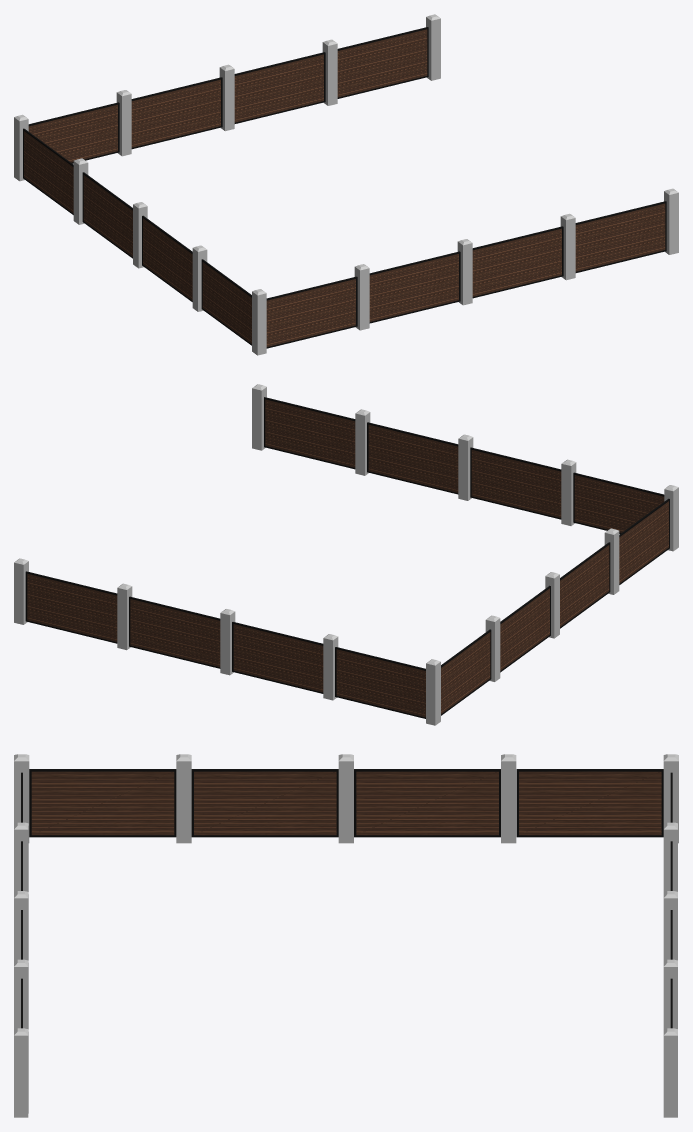
The model's file is Exterior.FBX.
The picture shows the model from 3 angles, top to bottom: view 1: azimuth 30°, elevation 25°; view 2: azimuth 150°, elevation 25°; view 3: azimuth 270°, elevation 25°; orthographic projection. The views are drawn at different scales.
Parts seen in each view (by area): view 1: Exterior 2, Exterior 1, exterior 3; view 2: Exterior 1, Exterior 2, exterior 3; view 3: exterior 3, Exterior 1, Exterior 2.
Boxes of the visible parts, x1,y1,x2,y2 form: Exterior 2: (252,188,678,355); Exterior 1: (14,14,440,181); exterior 3: (23,128,251,345); Exterior 1: (14,558,440,725); Exterior 2: (252,384,678,551); exterior 3: (441,498,669,715); exterior 3: (29,754,663,843); Exterior 1: (663,754,678,1117); Exterior 2: (14,754,29,1117).
Size of the model in its own units: 18335 by 2574 by 18359.
